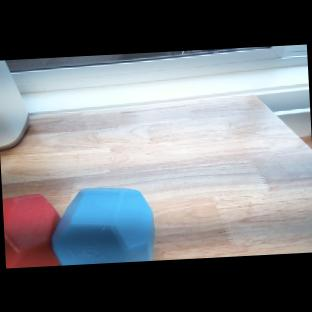V5_BLUE: (50, 182, 155, 266)
V5_RED: (2, 194, 62, 268)
pieces: (2, 181, 157, 268)
